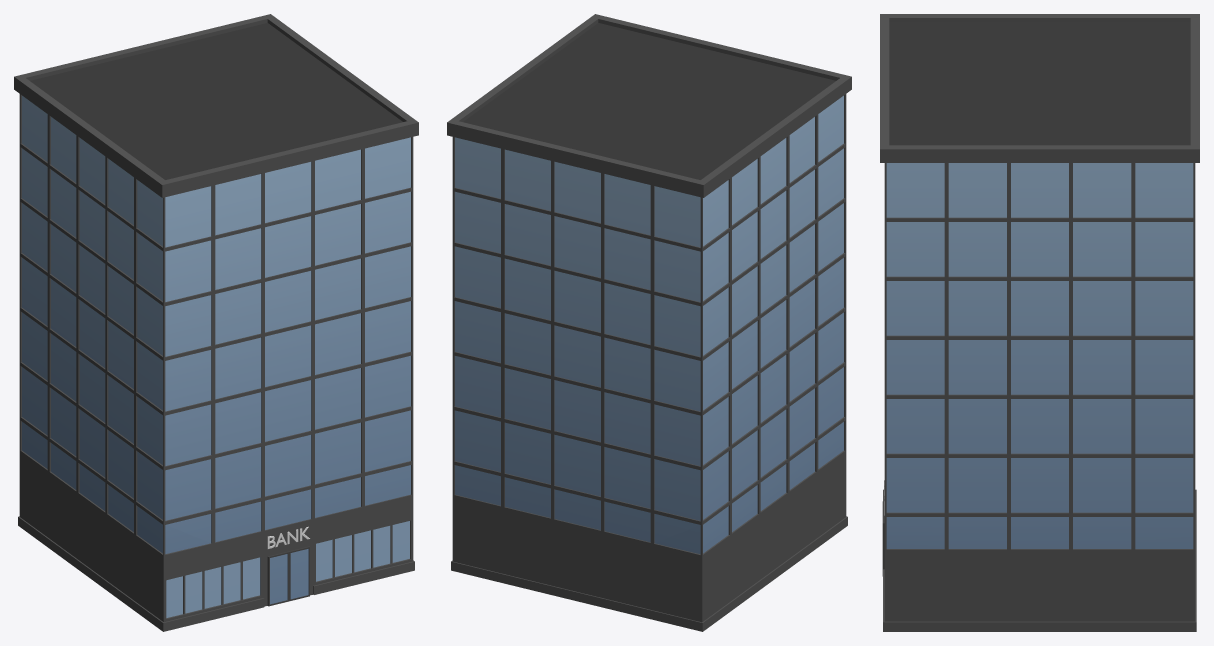
Rendered from Bank_01.glb.
3 renders of one model, left to right at view 1: azimuth 30°, elevation 25°; view 2: azimuth 150°, elevation 25°; view 3: azimuth 270°, elevation 25°, orthographic. The views are drawn at different scales.
Parts seen in each view (by area): view 1: Bank_01; view 2: Bank_01; view 3: Bank_01.
Part boxes in pixels (x1=…): Bank_01: x1=14, y1=14, x2=418, y2=631; Bank_01: x1=447, y1=14, x2=851, y2=631; Bank_01: x1=880, y1=14, x2=1199, y2=631.
Bounding box in the file's own units: 11.98 × 20 × 11.98.
1 material, 1 textured.
